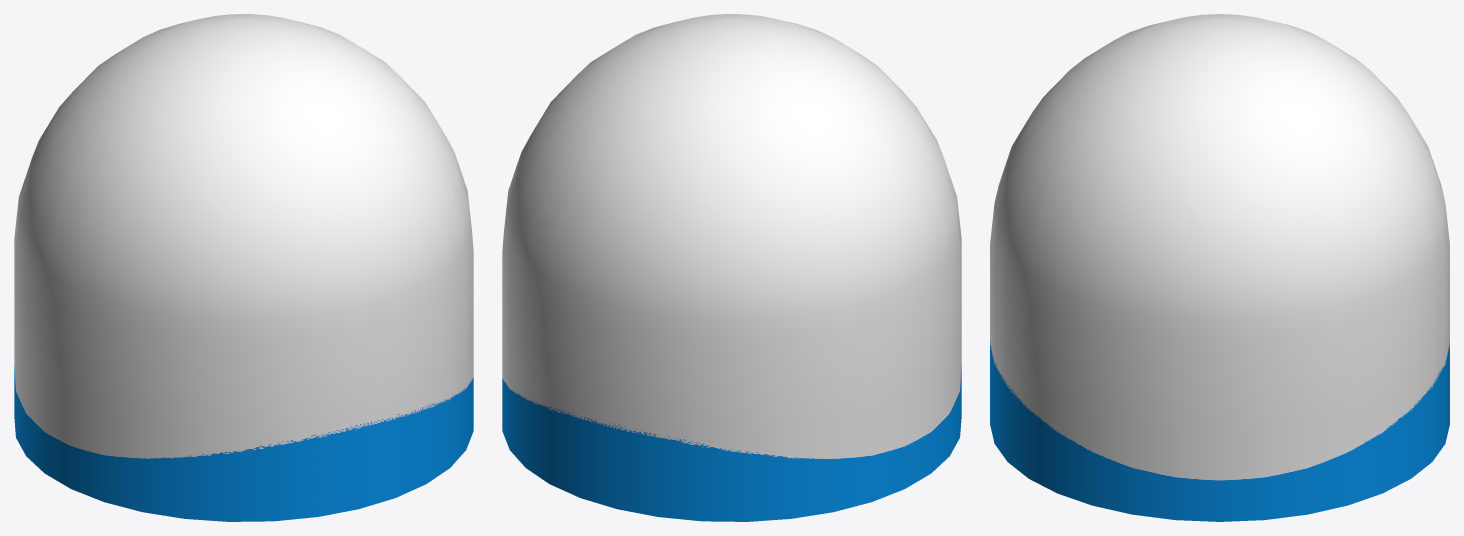
File: guard.fbx
3 renders of one model, left to right at view 1: azimuth 30°, elevation 25°; view 2: azimuth 150°, elevation 25°; view 3: azimuth 270°, elevation 25°, orthographic.
Parts seen in each view (by area): view 1: Guard.001; view 2: Guard.001; view 3: Guard.001.
Part boxes in pixels (bbox=[...]): Guard.001: bbox=[14, 14, 473, 521]; Guard.001: bbox=[502, 14, 961, 521]; Guard.001: bbox=[990, 14, 1449, 521].
Bounding box in the file's own units: 460 × 430 × 460.
